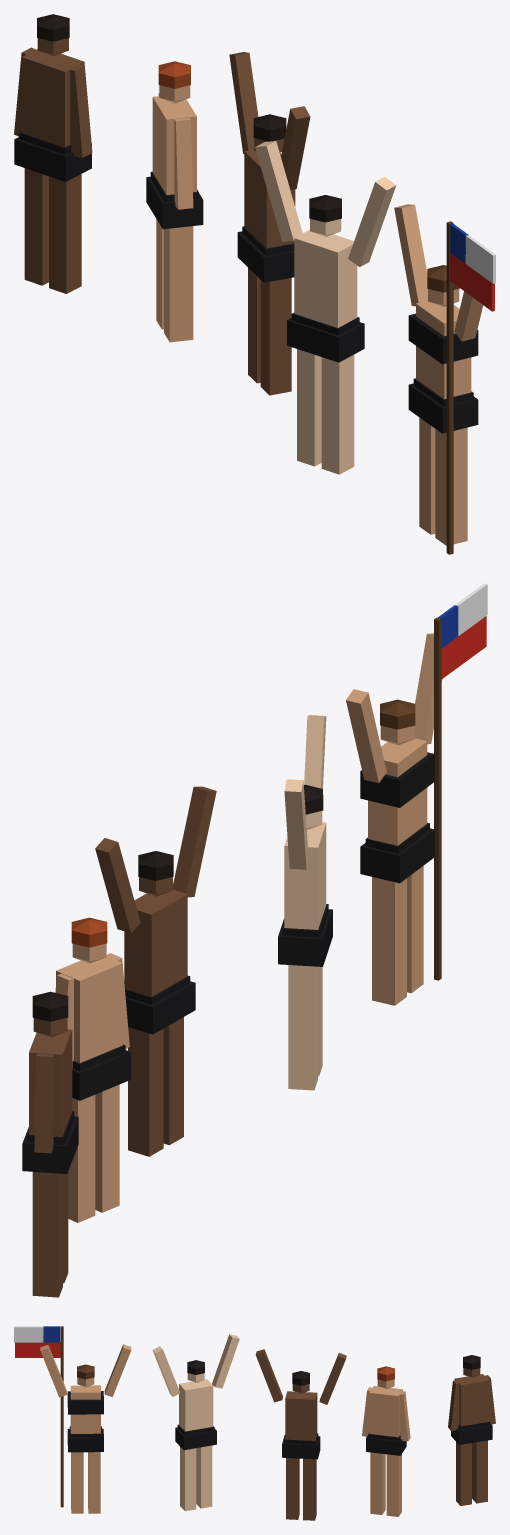
File: nudista_publico_4.obj
3 renders of one model, top to bottom at view 1: azimuth 30°, elevation 25°; view 2: azimuth 150°, elevation 25°; view 3: azimuth 270°, elevation 25°, orthographic. The views are drawn at different scales.
Visible parts, largest first — view 1: nudista_publico_4; view 2: nudista_publico_4; view 3: nudista_publico_4.
Boxes of the visible parts, x1,y1,x2,y2 form: nudista_publico_4: (14,14,495,554); nudista_publico_4: (22,583,487,1297); nudista_publico_4: (14,1326,495,1520).
Bounding box in the file's own units: 0.7186 × 2.1 × 5.1.
